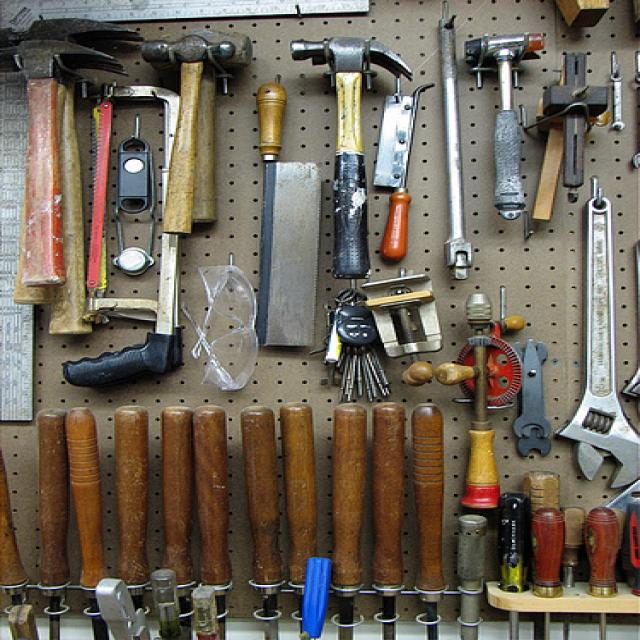hammer: (270, 29, 398, 272), (0, 15, 89, 284)
wrench: (547, 251, 640, 494)
